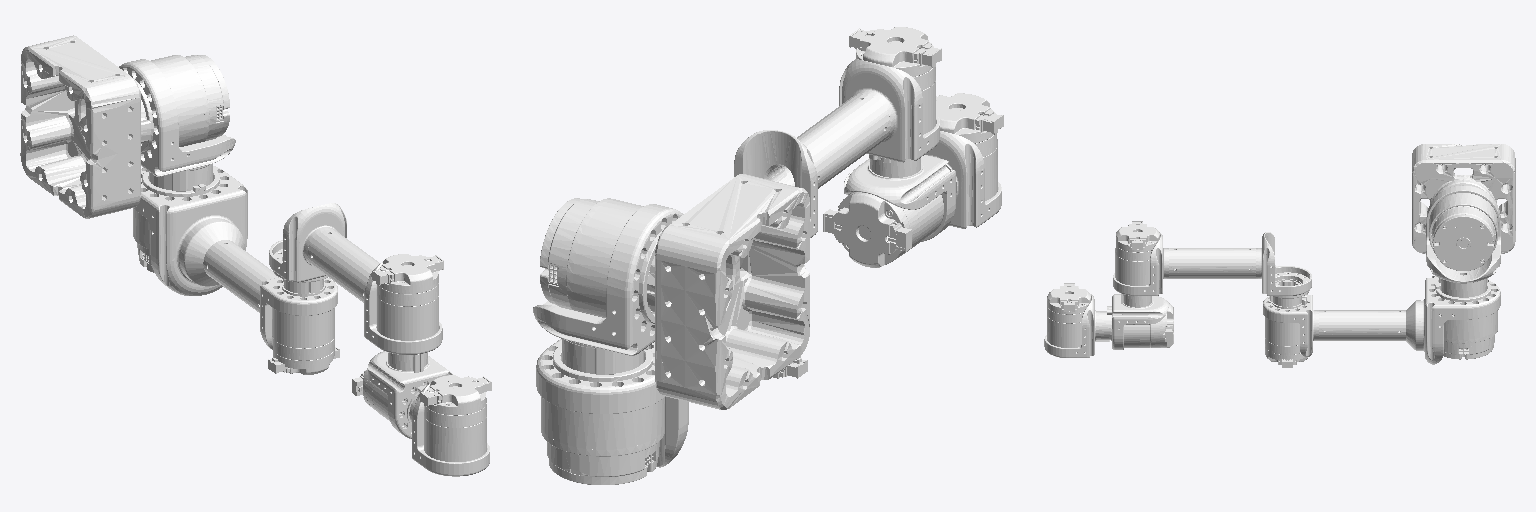
The robot description file, URDF, robot "gluon":
<?xml version="1.0" ?>
<robot name="gluon">
    <!--Constant define-->
    <!--single arm define-->
    <link name="world" />
    <link name="base_link">
        <inertial>
            <origin xyz="-7.07923322916521E-05 -3.15078560279351E-07 0.00211490550882476" rpy="0 0 0" />
            <mass value="0.947876033180305" />
            <inertia ixx="0.0017318413107461" ixy="3.14952850900379E-10" ixz="2.06131736991631E-06" iyy="0.00151929091543902" iyz="-2.03157503363577E-07" izz="0.00288656909579778" />
        </inertial>
        <visual>
            <origin xyz="0 0 0" rpy="1.570796 0 1.570796" />
            <geometry>
                <mesh filename="package://gluon/meshes/base_link.STL" />
            </geometry>
            <material name="">
                <color rgba="1 1 1 1" />
            </material>
        </visual>
        <collision>
            <origin xyz="0 0 0" rpy="0 0 0" />
            <geometry>
                <mesh filename="package://gluon/meshes/base_link.STL" />
            </geometry>
        </collision>
    </link>
    <joint name="world_joint" type="fixed">
        <origin xyz="0 0 0" rpy="0 0 0" />
        <parent link="world" />
        <child link="base_link" />
    </joint>
    <link name="link1">
        <inertial>
            <origin xyz="0.0136179271893209 7.04702633335797E-07 -0.00891671768932772" rpy="0 0 0" />
            <mass value="0.427787775289708" />
            <inertia ixx="0.000328336335162208" ixy="1.39942675254359E-08" ixz="-4.96624559527467E-05" iyy="0.000349499347099752" iyz="7.16862445800443E-09" izz="0.000398779291439988" />
        </inertial>
        <visual>
            <origin xyz="0 0 0" rpy="0 0 0" />
            <geometry>
                <mesh filename="package://gluon/meshes/1_Link.STL" />
            </geometry>
            <material name="">
                <color rgba="1 1 1 1" />
            </material>
        </visual>
        <collision>
            <origin xyz="0 0 0" rpy="0 0 0" />
            <geometry>
                <mesh filename="package://gluon/meshes/1_Link.STL" />
            </geometry>
        </collision>
    </link>
    <joint name="axis_joint_1" type="revolute">
        <origin xyz="0.1205 -1.7907E-05 0" rpy="1.570796 1.570796 1.570796" />
        <parent link="base_link" />
        <child link="link1" />
        <axis xyz="0 0 -1" />
        <limit lower="-3.0" upper="3.0" effort="150.0" velocity="3.0" />
    </joint>
    <link name="link2">
        <inertial>
            <origin xyz="0.0282477009101944 4.3906549022065E-07 -0.00996354944497273" rpy="0 0 0" />
            <mass value="0.474122227914849" />
            <inertia ixx="0.000348140976643854" ixy="6.62975404584032E-09" ixz="-3.65184694791613E-05" iyy="0.000363227053478232" iyz="-1.49821649022608E-08" izz="0.00041732509280613" />
        </inertial>
        <visual>
            <origin xyz="0 0 0" rpy="0 0 0" />
            <geometry>
                <mesh filename="package://gluon/meshes/2_Link.STL" />
            </geometry>
            <material name="">
                <color rgba="1 1 1 1" />
            </material>
        </visual>
        <collision>
            <origin xyz="0 0 0" rpy="0 0 0" />
            <geometry>
                <mesh filename="package://gluon/meshes/2_Link.STL" />
            </geometry>
        </collision>
    </link>
    <joint name="axis_joint_2" type="revolute">
        <origin xyz="0.1165 0 0" rpy="-1.5708 0 -1.5708" />
        <parent link="link1" />
        <child link="link2" />
        <axis xyz="0 0 -1" />
        <limit lower="-0.1" upper="3.0" effort="150.0" velocity="3.0" />
    </joint>
    <link name="link3">
        <inertial>
            <origin xyz="0.0550000657149 1.02706571201196E-05 -0.0873823729588203" rpy="0 0 0" />
            <mass value="0.150735858555544" />
            <inertia ixx="6.48442797417871E-05" ixy="-7.37989542660507E-09" ixz="-1.63575029334465E-07" iyy="7.51775686938988E-05" iyz="-6.30391436593442E-09" izz="8.14430313397472E-05" />
        </inertial>
        <visual>
            <origin xyz="0 0 0" rpy="0 0 0" />
            <geometry>
                <mesh filename="package://gluon/meshes/3_Link.STL" />
            </geometry>
            <material name="">
                <color rgba="1 1 1 1" />
            </material>
        </visual>
        <collision>
            <origin xyz="0 0 0" rpy="0 0 0" />
            <geometry>
                <mesh filename="package://gluon/meshes/3_Link.STL" />
            </geometry>
        </collision>
    </link>
    <joint name="axis_joint_3" type="revolute">
        <origin xyz="0.20352 2.2698E-05 0.03825" rpy="-0.00039303 0 0" />
        <parent link="link2" />
        <child link="link3" />
        <axis xyz="0 0 1" />
        <limit lower="-3.0" upper="3.0" effort="150.0" velocity="3.0" />
    </joint>
    <link name="link4">
        <inertial>
            <origin xyz="0.00316829014378384 -2.51807207740376E-05 -0.065762603358388" rpy="0 0 0" />
            <mass value="0.0868240169253312" />
            <inertia ixx="3.69273389374954E-05" ixy="-7.74427846366249E-09" ixz="6.58227930408113E-06" iyy="3.88095070665613E-05" iyz="-3.86379121232784E-09" izz="4.25312703267998E-05" />
        </inertial>
        <visual>
            <origin xyz="0 0 0" rpy="0 0 0" />
            <geometry>
                <mesh filename="package://gluon/meshes/4_Link.STL" />
            </geometry>
            <material name="">
                <color rgba="1 1 1 1" />
            </material>
        </visual>
        <collision>
            <origin xyz="0 0 0" rpy="0 0 0" />
            <geometry>
                <mesh filename="package://gluon/meshes/4_Link.STL" />
            </geometry>
        </collision>
    </link>
    <joint name="axis_joint_4" type="revolute">
        <origin xyz="0.173 1.58E-05 -0.1557" rpy="-3.1412 0 0" />
        <parent link="link3" />
        <child link="link4" />
        <axis xyz="0 0 1" />
        <limit lower="-3.0" upper="3.0" effort="150.0" velocity="3.0" />
    </joint>
    <link name="link5">
        <inertial>
            <origin xyz="0.00301334222958494 2.51282272504116E-05 -0.0271578777359305" rpy="0 0 0" />
            <mass value="0.0861219565127689" />
            <inertia ixx="3.66130359688528E-05" ixy="-7.69517877575345E-09" ixz="6.39794733105846E-06" iyy="3.815099630915E-05" iyz="3.73716337127711E-09" izz="4.20198733154724E-05" />
        </inertial>
        <visual>
            <origin xyz="0 0 0" rpy="0 0 0" />
            <geometry>
                <mesh filename="package://gluon/meshes/5_Link.STL" />
            </geometry>
            <material name="">
                <color rgba="1 1 1 1" />
            </material>
        </visual>
        <collision>
            <origin xyz="0 0 0" rpy="0 0 0" />
            <geometry>
                <mesh filename="package://gluon/meshes/5_Link.STL" />
            </geometry>
        </collision>
    </link>
    <joint name="axis_joint_5" type="revolute">
        <origin xyz="0 0 -0.11743" rpy="3.1416 1.5708 0" />
        <parent link="link4" />
        <child link="link5" />
        <axis xyz="0 0 -1" />
        <limit lower="-3.0" upper="3.0" effort="150.0" velocity="3.0" />
    </joint>
    <link name="link6">
        <inertial>
            <origin xyz="2.43062335152366E-05 1.80532182430252E-05 0.0293761927296333" rpy="0 0 0" />
            <mass value="0.0341435122227797" />
            <inertia ixx="9.69578526103206E-06" ixy="-7.64383826654747E-09" ixz="-3.2515655925902E-09" iyy="1.02214035330215E-05" iyz="6.36682596346152E-09" izz="1.67442220589365E-05" />
        </inertial>
        <visual>
            <origin xyz="0 0 0" rpy="0 0 0" />
            <geometry>
                <mesh filename="package://gluon/meshes/6_Link.STL" />
            </geometry>
            <material name="">
                <color rgba="1 1 1 1" />
            </material>
        </visual>
        <collision>
            <origin xyz="0 0 0" rpy="0 0 0" />
            <geometry>
                <mesh filename="package://gluon/meshes/6_Link.STL" />
            </geometry>
        </collision>
    </link>
    <joint name="axis_joint_6" type="revolute">
        <origin xyz="0.019524 2.2696E-05 -0.079176" rpy="3.1412 1.5708 0" />
        <parent link="link5" />
        <child link="link6" />
        <axis xyz="0 0 -1" />
        <limit lower="-3.0" upper="3.0" effort="150.0" velocity="3.0" />
    </joint>
    <!--transmission name="trans_axis_joint_1">
        <type>transmission_interface/SimpleTransmission</type>
        <joint name="axis_joint_1">
            <hardwareInterface>hardware_interface/EffortJointInterface</hardwareInterface>
        </joint>
        <actuator name="axis_joint_1_motor">
            <hardwareInterface>hardware_interface/EffortJointInterface</hardwareInterface>
            <mechanicalReduction>1</mechanicalReduction>
        </actuator>
    </transmission>
    <transmission name="trans_axis_joint_2">
        <type>transmission_interface/SimpleTransmission</type>
        <joint name="axis_joint_2">
            <hardwareInterface>hardware_interface/EffortJointInterface</hardwareInterface>
        </joint>
        <actuator name="axis_joint_2_motor">
            <hardwareInterface>hardware_interface/EffortJointInterface</hardwareInterface>
            <mechanicalReduction>1</mechanicalReduction>
        </actuator>
    </transmission>
    <transmission name="trans_axis_joint_3">
        <type>transmission_interface/SimpleTransmission</type>
        <joint name="axis_joint_3">
            <hardwareInterface>hardware_interface/EffortJointInterface</hardwareInterface>
        </joint>
        <actuator name="axis_joint_3_motor">
            <hardwareInterface>hardware_interface/EffortJointInterface</hardwareInterface>
            <mechanicalReduction>1</mechanicalReduction>
        </actuator>
    </transmission>
    <transmission name="trans_axis_joint_4">
        <type>transmission_interface/SimpleTransmission</type>
        <joint name="axis_joint_4">
            <hardwareInterface>hardware_interface/EffortJointInterface</hardwareInterface>
        </joint>
        <actuator name="axis_joint_4_motor">
            <hardwareInterface>hardware_interface/EffortJointInterface</hardwareInterface>
            <mechanicalReduction>1</mechanicalReduction>
        </actuator>
    </transmission>
    <transmission name="trans_axis_joint_5">
        <type>transmission_interface/SimpleTransmission</type>
        <joint name="axis_joint_5">
            <hardwareInterface>hardware_interface/EffortJointInterface</hardwareInterface>
        </joint>
        <actuator name="axis_joint_5_motor">
            <hardwareInterface>hardware_interface/EffortJointInterface</hardwareInterface>
            <mechanicalReduction>1</mechanicalReduction>
        </actuator>
    </transmission>
    <transmission name="trans_axis_joint_6">
        <type>transmission_interface/SimpleTransmission</type>
        <joint name="axis_joint_6">
            <hardwareInterface>hardware_interface/EffortJointInterface</hardwareInterface>
        </joint>
        <actuator name="axis_joint_6_motor">
            <hardwareInterface>hardware_interface/EffortJointInterface</hardwareInterface>
            <mechanicalReduction>1</mechanicalReduction>
        </actuator>
    </transmission>
    <gazebo>
        <plugin name="gazebo_ros_control">
            <robotNamespace>/</robotNamespace>
        </plugin>
    </gazebo-->
</robot>

--- What the picture shows (computed from the rendered views, not written in the file) ---
3 views of the same robot in one strip: view 1: azimuth 30°, elevation 25°; view 2: azimuth 150°, elevation 25°; view 3: azimuth 270°, elevation 25° (orthographic).
Robot: gluon — 8 links, 7 joints (6 revolute, 1 fixed); root link world; default pose: all joints at 0.
Links seen in each view (by area): view 1: base_link, link2, link3, link1, link4, link6, link5; view 2: base_link, link1, link2, link3, link5, link4, link6; view 3: link2, link3, link1, base_link, link4, link5, link6.
Link boxes in pixels (x1=…): base_link: x1=20, y1=35, x2=150, y2=218; link2: x1=133, y1=166, x2=337, y2=349; link3: x1=268, y1=203, x2=442, y2=374; link1: x1=119, y1=55, x2=235, y2=191; link4: x1=368, y1=254, x2=453, y2=438; link6: x1=420, y1=375, x2=491, y2=461; link5: x1=352, y1=368, x2=489, y2=476; base_link: x1=647, y1=174, x2=809, y2=409; link1: x1=533, y1=198, x2=683, y2=374; link2: x1=536, y1=265, x2=805, y2=484; link3: x1=734, y1=59, x2=939, y2=378; link5: x1=823, y1=131, x2=1001, y2=267; link4: x1=844, y1=27, x2=955, y2=241; link6: x1=936, y1=93, x2=1003, y2=200; link2: x1=1263, y1=276, x2=1500, y2=364; link3: x1=1113, y1=232, x2=1311, y2=367; link1: x1=1426, y1=185, x2=1500, y2=297; base_link: x1=1412, y1=144, x2=1515, y2=253; link4: x1=1107, y1=221, x2=1168, y2=349; link5: x1=1044, y1=294, x2=1173, y2=357; link6: x1=1047, y1=283, x2=1090, y2=347.
Size in the robot's own frame: 0.1635 by 0.5445 by 0.2195 metres.
7 mesh visuals loaded from 7 distinct referenced files (7 binary STL).